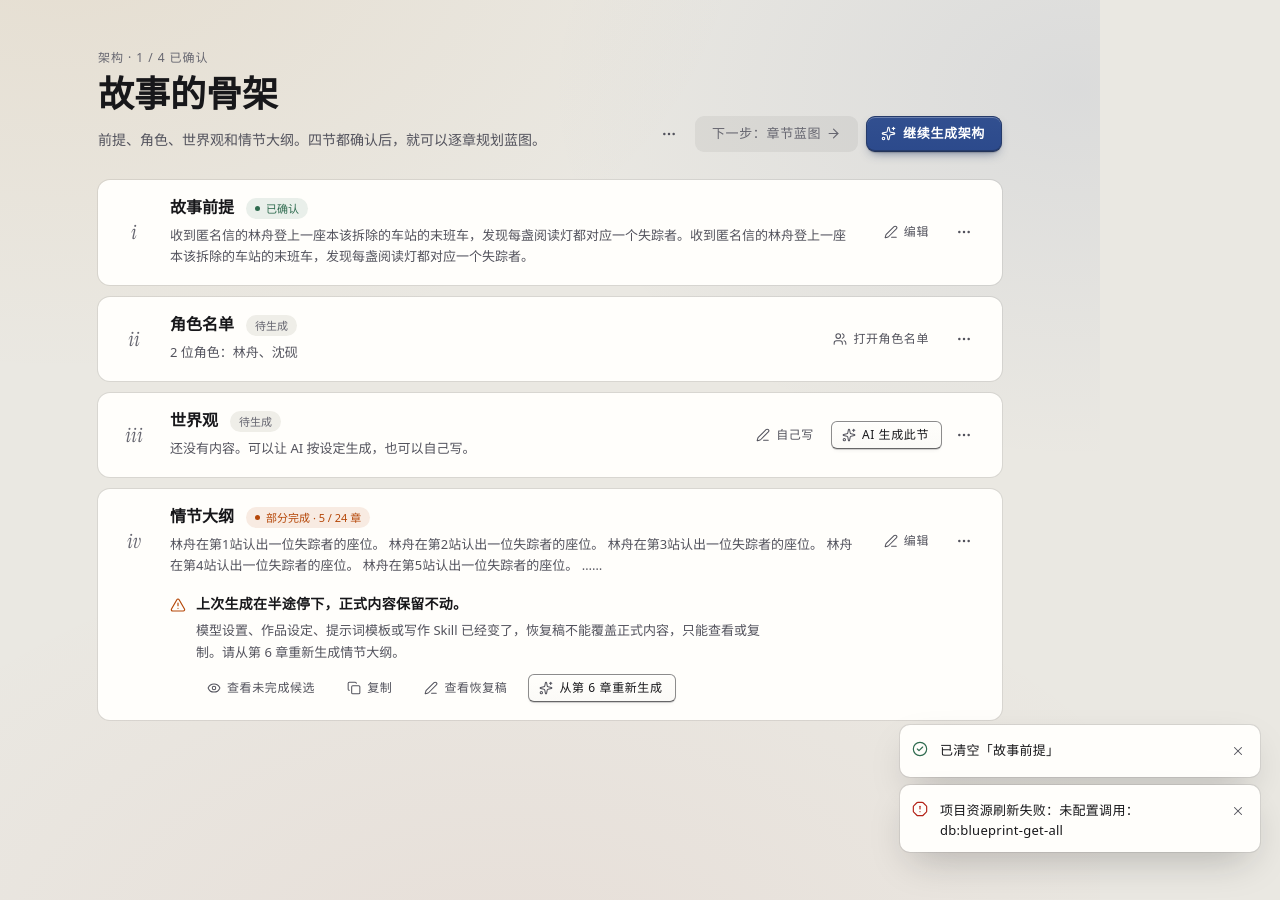
Test case: 架构阶段 › 第 6–10 章那批途中改了模型（第 7 章请求前被拒）、恢复稿写回被封锁：提示只能查看或复制并从第 6 章重新生成，按钮直接打开从第 6 章起的对话框
Expected: the element that starts with "情节大纲" shows "只能查看或复制。请从第 6 章重新生成情节大纲", [196,621,760,661]
Click the button "从第 6 章重新生成" at coordinates (602, 688), box [528,674,676,702]
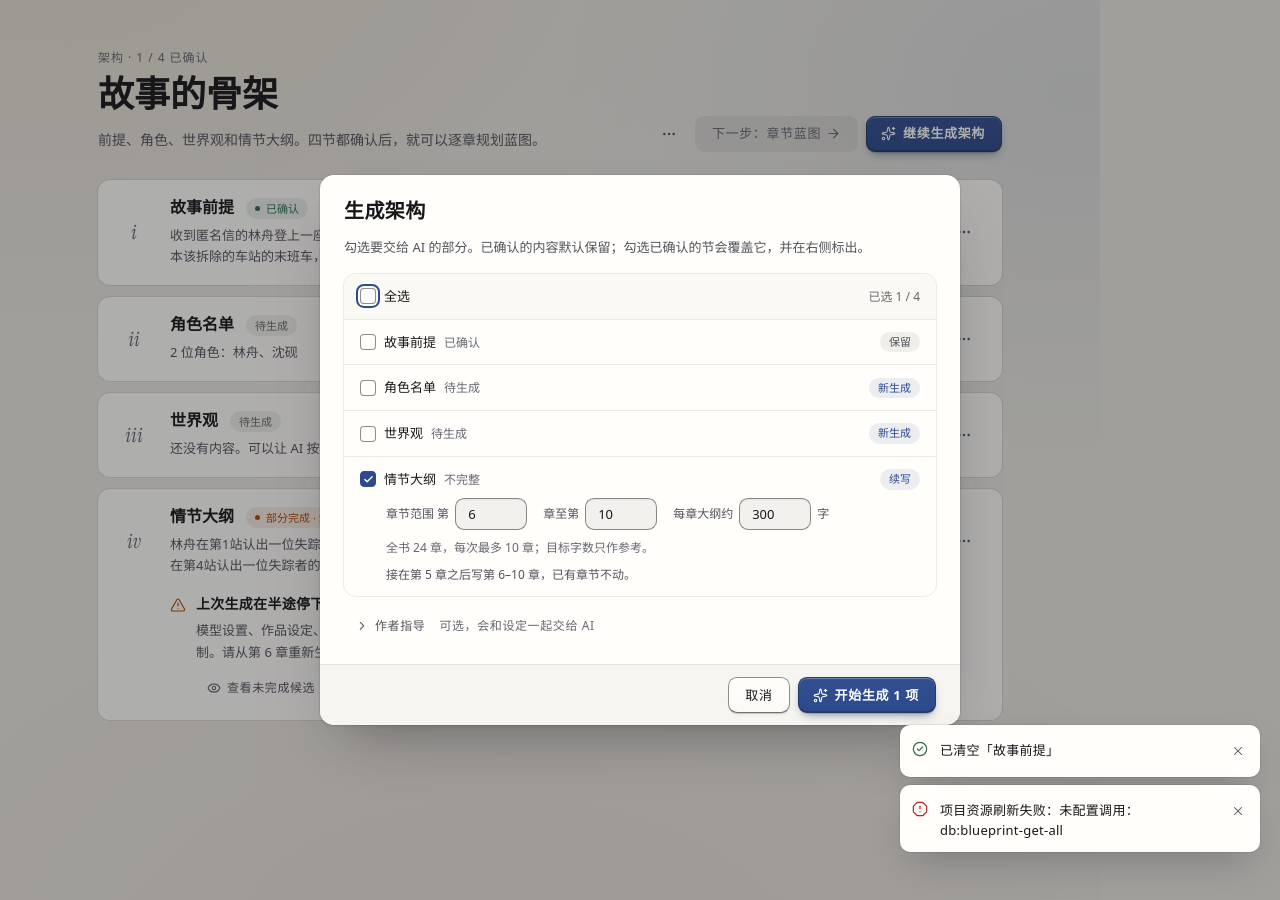
Expected: the number field named "本次生成范围的起始章" holds "6", [455,498,527,530]
Expected: the number field named "本次生成范围的结束章" holds "10", [585,498,657,530]
